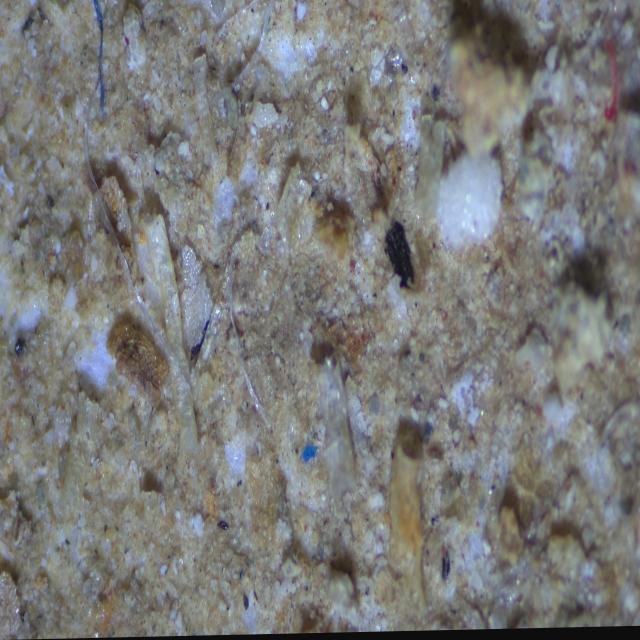microplastic: (92, 0, 106, 118), (603, 44, 619, 126), (294, 442, 319, 467)
